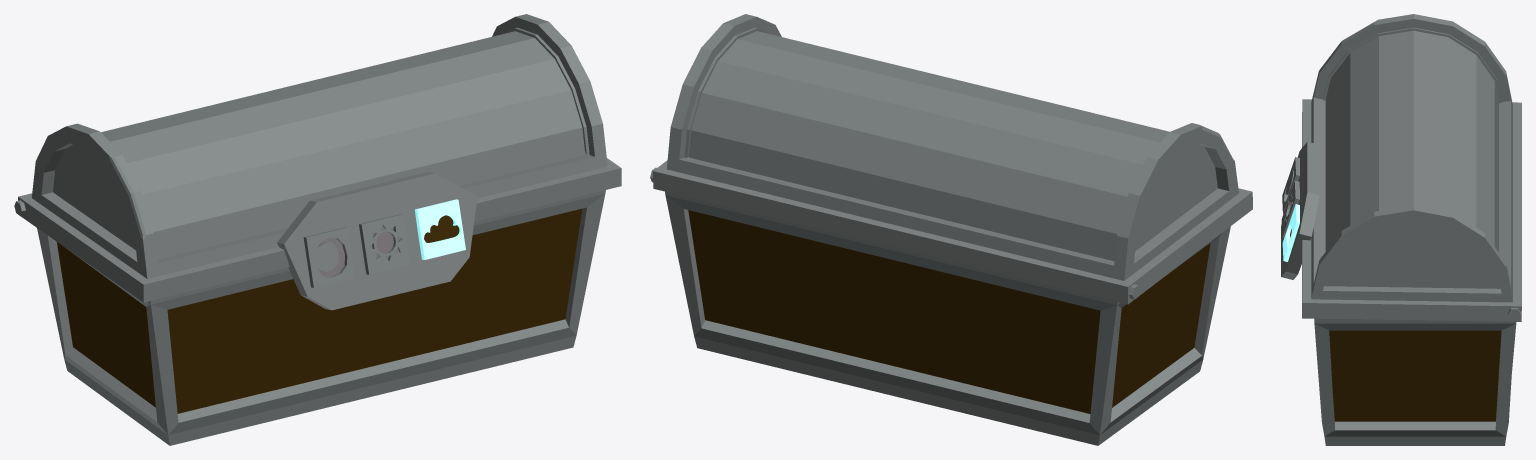
The model's file is syndykOFF.fbx.
3 views of the same model, side by side, from view 1: azimuth 30°, elevation 25°; view 2: azimuth 150°, elevation 25°; view 3: azimuth 270°, elevation 25° (orthographic). The views are drawn at different scales.
Parts seen in each view (by area): view 1: Цилиндр, Plane.001, Plane.004, Plane.003, Plane.005; view 2: Цилиндр, Plane.001; view 3: Цилиндр, Plane.001, Plane.005, Plane.004, Plane.003.
Part boxes in pixels (left/top/right/bottom): Цилиндр: left=14, top=14, right=621, bottom=310; Plane.001: left=37, top=190, right=605, bottom=445; Plane.004: left=359, top=214, right=410, bottom=274; Plane.003: left=303, top=227, right=354, bottom=287; Plane.005: left=415, top=199, right=465, bottom=259; Цилиндр: left=650, top=14, right=1252, bottom=304; Plane.001: left=665, top=191, right=1230, bottom=445; Цилиндр: left=1281, top=14, right=1521, bottom=321; Plane.001: left=1314, top=318, right=1516, bottom=445; Plane.005: left=1282, top=204, right=1299, bottom=261; Plane.004: left=1281, top=180, right=1299, bottom=237; Plane.003: left=1282, top=157, right=1299, bottom=213.
Size of the model in its own units: 1008 by 560 by 495.
